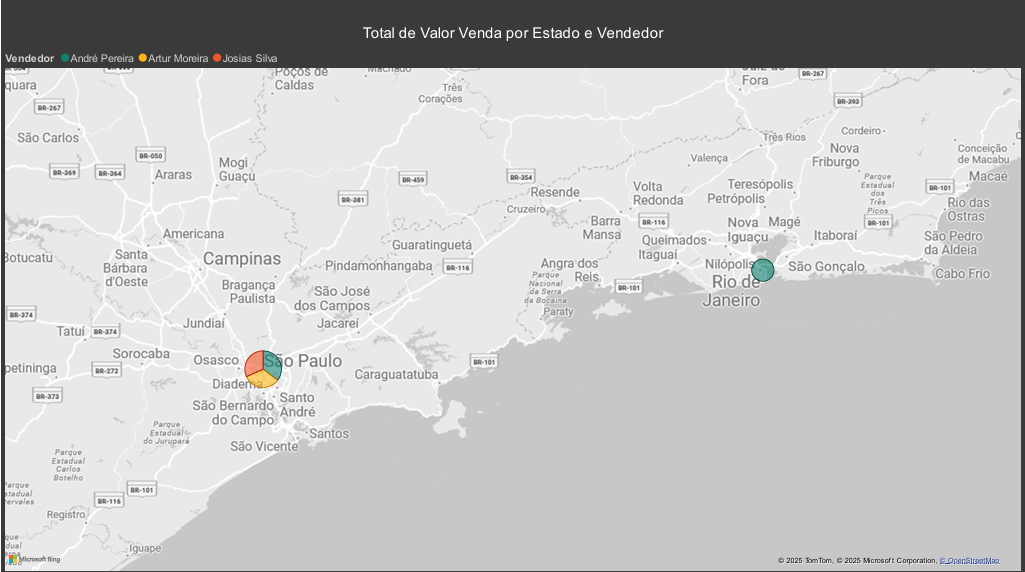

The dashboard page shown, as its layout file describes it:
{"tool":"powerbi","page":{"name":"Performance dos Vendedores por Região","canvas":[1280,720],"ordinal":4},"visuals":[{"type":"map","fields":{"Category":["Vendas.Estado"],"Size":["Sum(Vendas.ValorVenda)"],"Series":["Vendas.Vendedor"]},"box":[0,30.8,1280,688.8],"z":1}]}

Visuals, with their boxes in screenshot pixels (x1, y1, x2, y2), scaled from the page's 1280x720 canvas onto the 1025x572 screenshot:
map - Vendas.Estado x Sum(Vendas.ValorVenda): 0 24 1024 571
